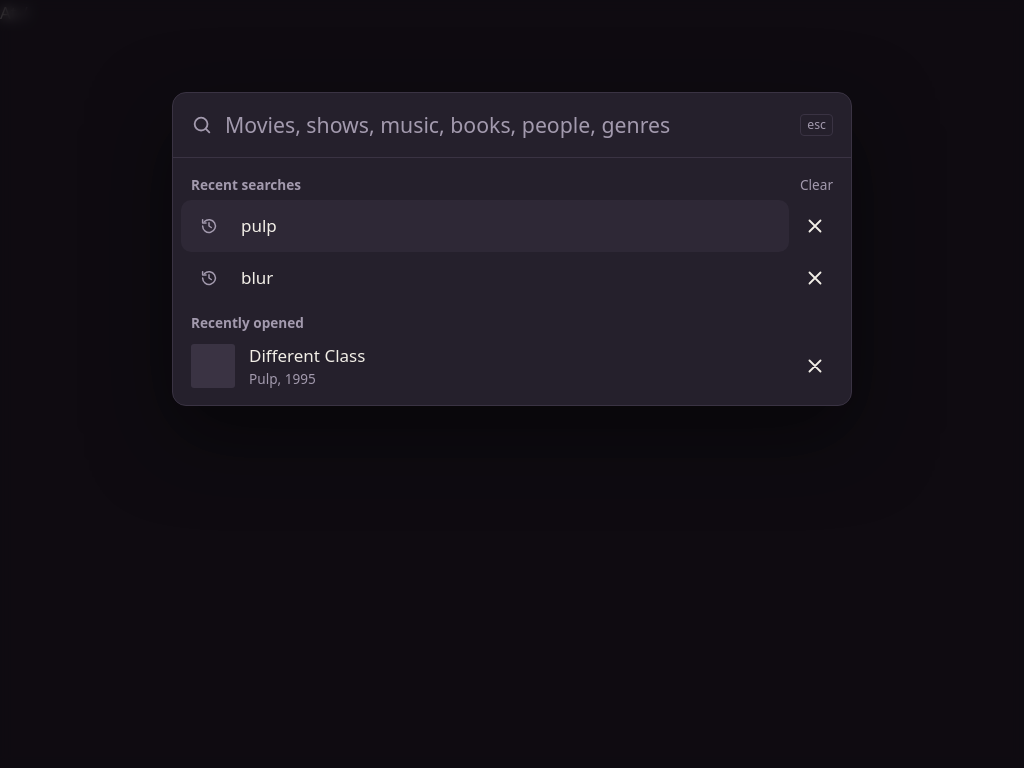
SearchPalette › forgets one recent search, or clears them all
Click the button named "Remove blur from recent searches".
click(815, 278)  # box [793,256,837,300]
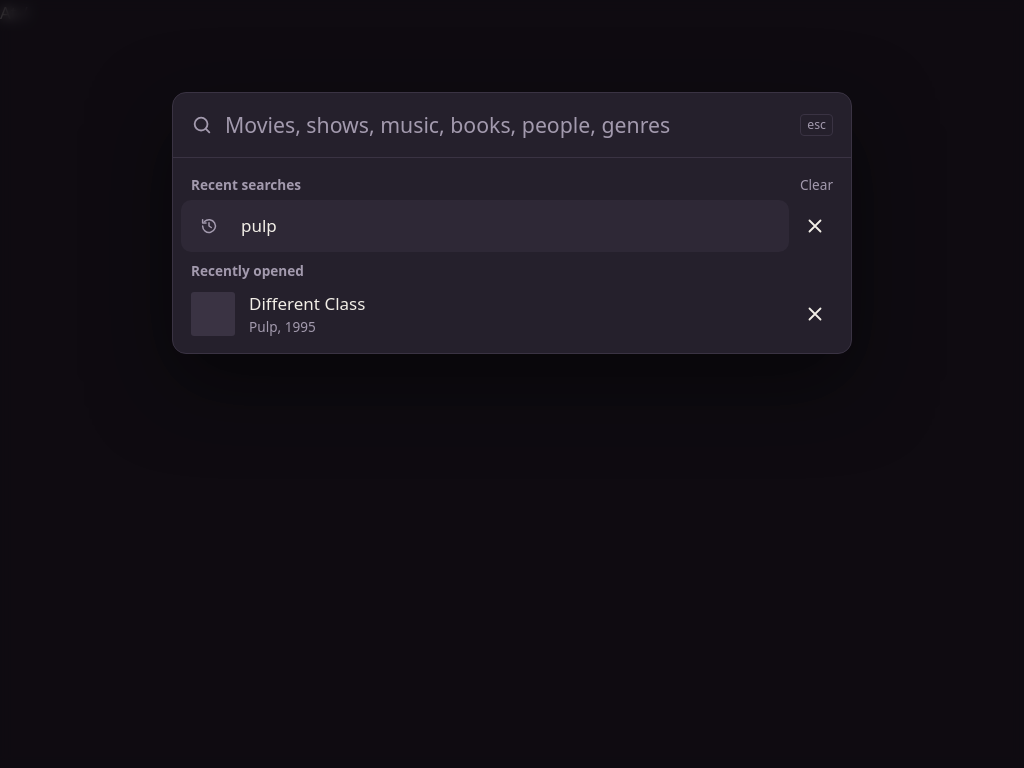
Expected: the option "blur" is gone
Click the button "Clear".
click(816, 185)  # box [790,171,843,200]
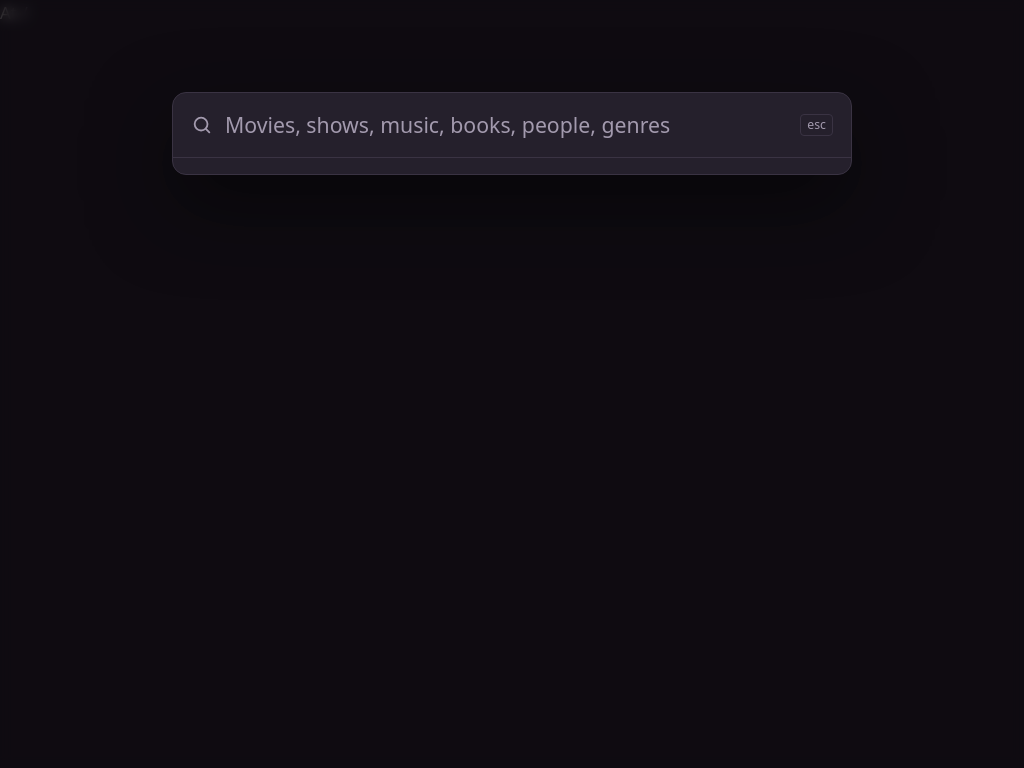
Expected: the heading "Recent searches" is gone
Expected: the heading "Recently opened" is gone
